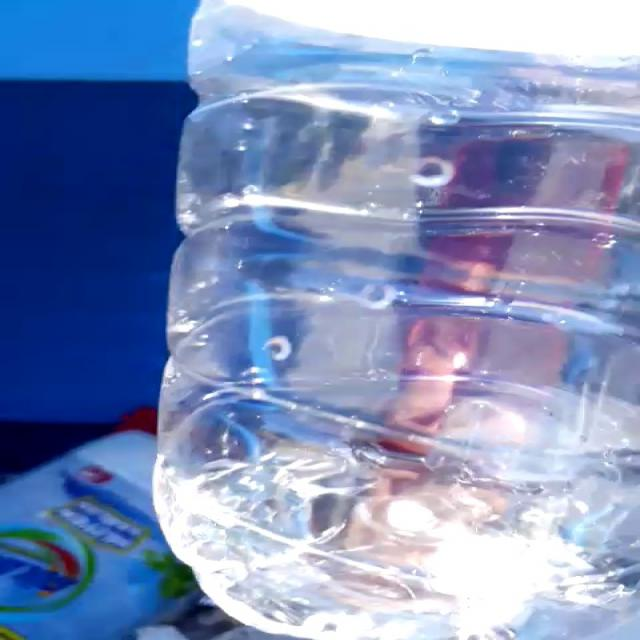plastic: (153, 0, 640, 640)
